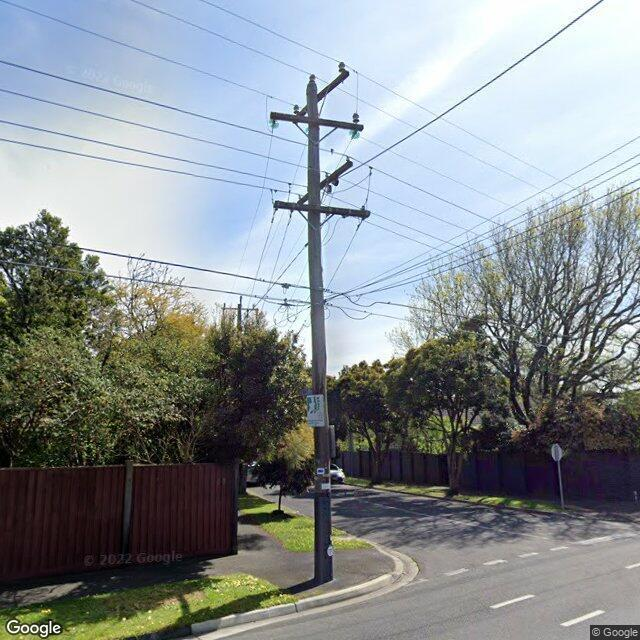HV-transmission: (270, 60, 364, 140)
crossarm: (270, 182, 371, 233), (297, 157, 355, 204), (298, 70, 350, 116), (270, 110, 364, 130)
timber-pole: (306, 82, 332, 580)
